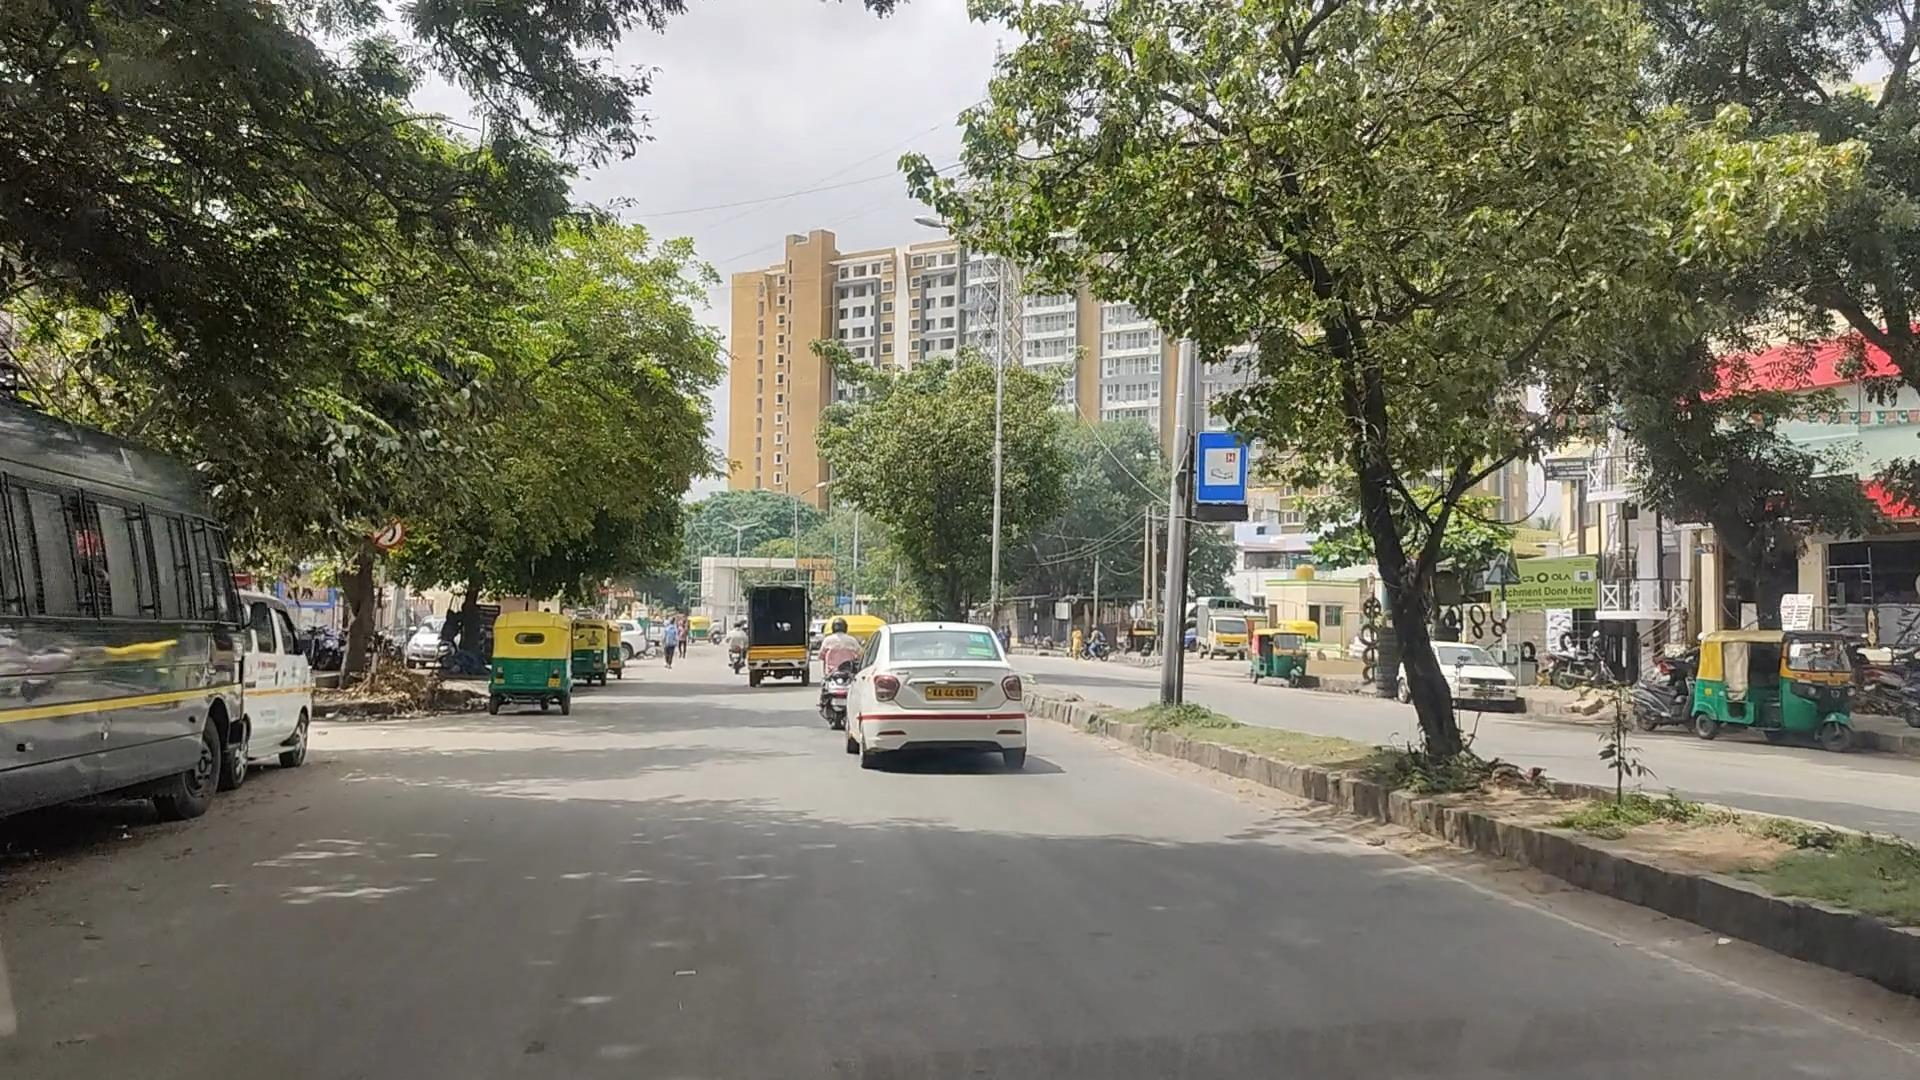LMV: (864, 622, 1038, 770)
